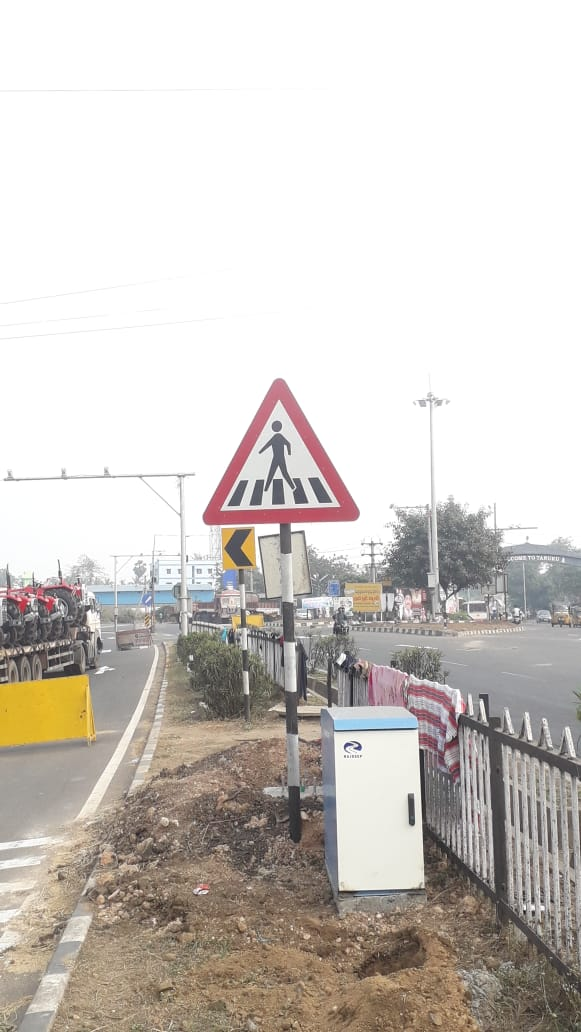pedestrian crossing: (192, 368, 367, 546)
